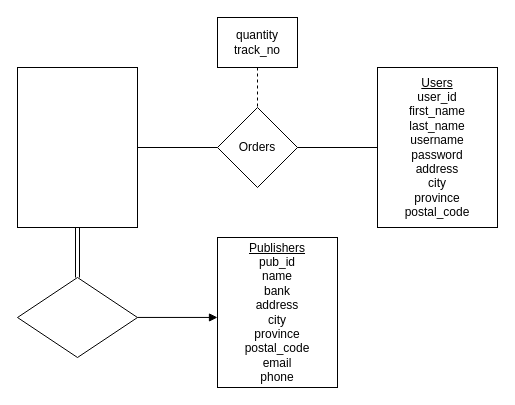
Some shapes in this 515 by 405 pixel diagram are drawn without their labels. The shapes that lost their labels are listed below. From the top down, each one's centre as x and y in pixels, then its label:
pixel 77 147: Books isbn title author genre pages price quantity
pixel 77 317: book_publisher
